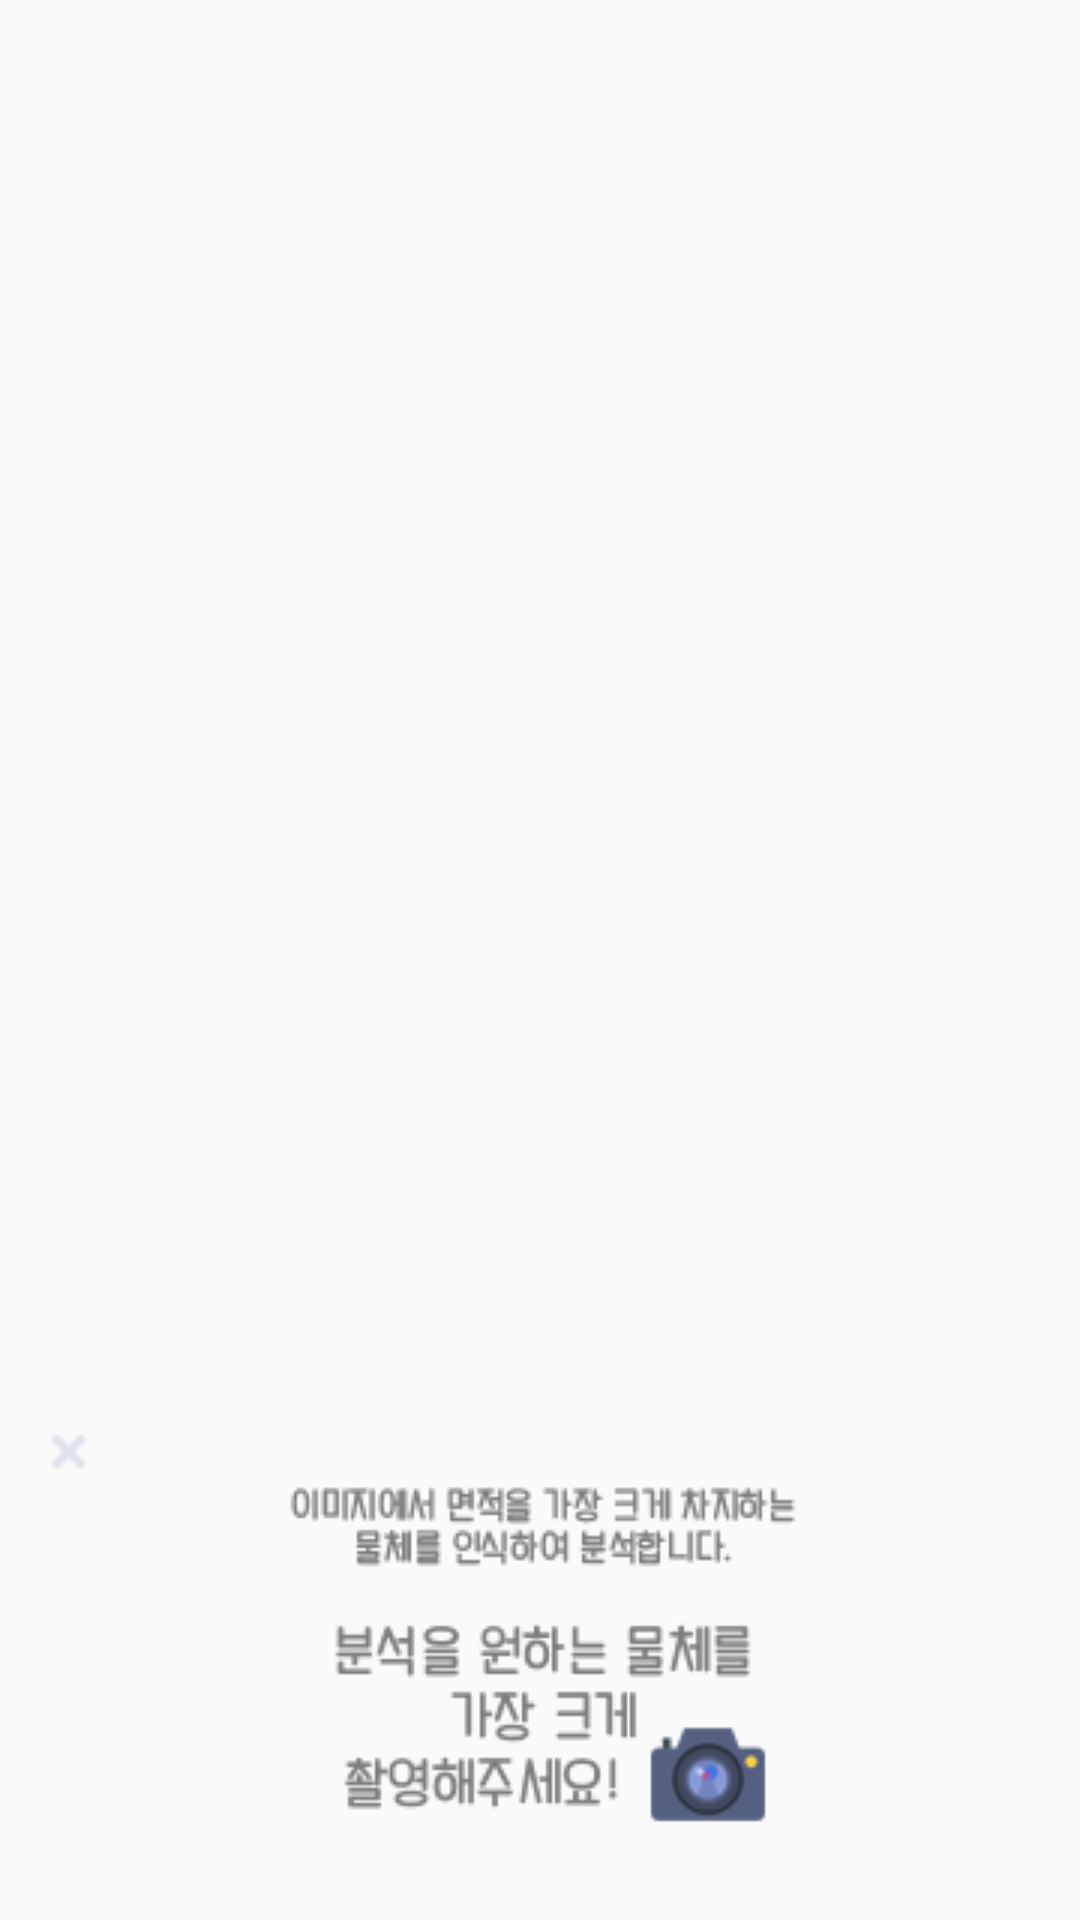

Where icons sit on this 1080w x 1920h app screen, as (x1, y1, x2, y2):
closeicon: (54, 1436, 83, 1466)
